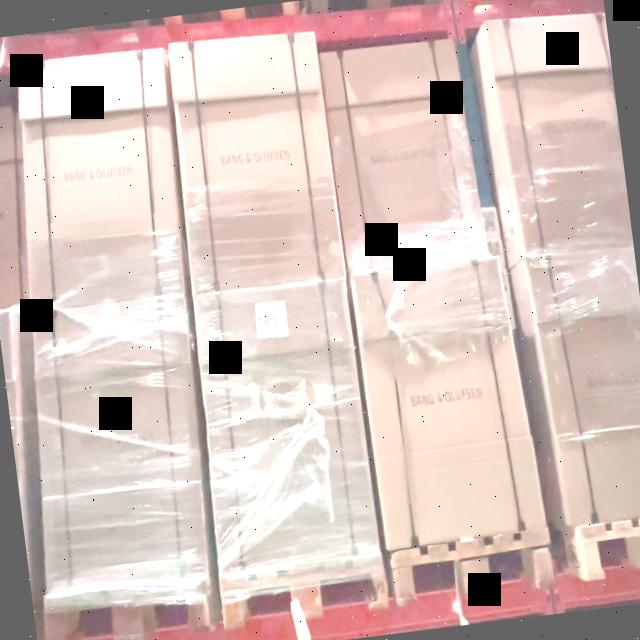box: (353, 254, 547, 550), (191, 276, 380, 573), (34, 292, 209, 594), (169, 30, 346, 292), (19, 49, 185, 314), (318, 41, 489, 273)
